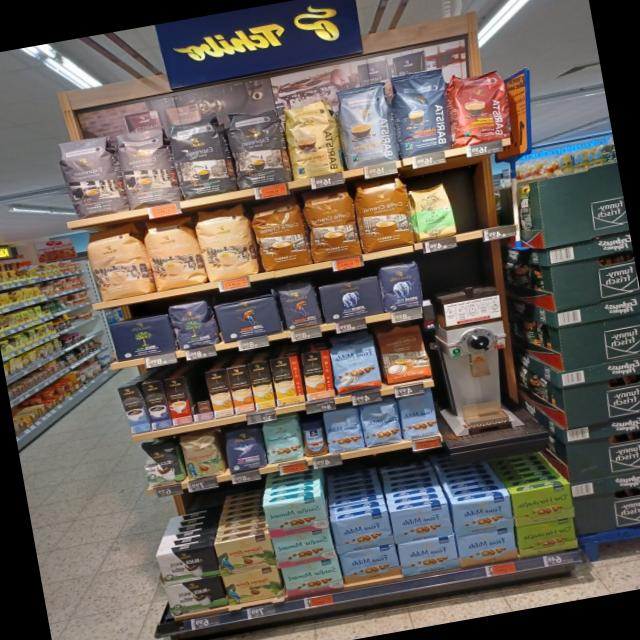AB Bohne: (376, 258, 426, 314)
AB Gemahlen: (317, 274, 385, 324)
Athiopien Gemahlen: (408, 182, 456, 242)
BM Bohne: (167, 298, 216, 351)
BM Gemahlen: (108, 313, 176, 363)
BW Bohne: (137, 438, 183, 488)
BW Gemahlen: (154, 542, 220, 587), (163, 574, 227, 618)
Barista CB: (280, 96, 346, 180)
Barista CC: (332, 80, 401, 170)
Barista Espresso: (384, 66, 456, 159)
Barista Kolumbien: (442, 63, 515, 148)
C Fino Bohne: (220, 424, 268, 474)
CC Mild: (80, 219, 152, 303), (194, 202, 257, 282), (142, 214, 204, 292)
CC Vollmundig: (376, 322, 432, 384)
CC Vollmundig 36 Pads: (350, 175, 416, 254), (300, 187, 362, 263), (249, 199, 311, 272)
Colombia BB Bohne: (177, 430, 224, 481)
Colombia BB Gemahlen: (212, 532, 276, 576), (221, 564, 283, 606)
Espresso Aromatisch: (55, 133, 126, 220), (114, 122, 178, 210)
Espresso Kraftig: (223, 104, 293, 190), (167, 112, 234, 200)
FM 36 Pads: (327, 330, 382, 394)
FM Bohne: (357, 398, 403, 448), (396, 390, 440, 441), (320, 406, 364, 456)
FM Gemahlen: (329, 509, 393, 554), (388, 500, 453, 544), (449, 494, 515, 536), (454, 526, 518, 568), (396, 534, 459, 576), (338, 544, 399, 584)
FM Instant: (298, 418, 329, 458)
Herzhatfe Mundig: (508, 482, 576, 526), (514, 516, 578, 558)
LG Bohne: (276, 280, 321, 332)
LG Gemahlen: (213, 294, 282, 344)
SM Bohne: (260, 416, 304, 465)
SM Gemahlen: (262, 493, 328, 539), (281, 556, 343, 600), (272, 528, 334, 569)
Simo CCMild: (270, 354, 306, 406)
Simo CCMild bigpack: (248, 360, 275, 410)
Simo CCVollmundig: (299, 350, 336, 400)
Simo CCVollmundig bigpack: (227, 365, 254, 414)
Simo Decaff: (206, 368, 233, 418)
Simo Es Brazil: (164, 376, 192, 426)
Simo Es Kraft: (140, 381, 172, 430)
Simo Es Vanilla: (116, 383, 150, 433)
